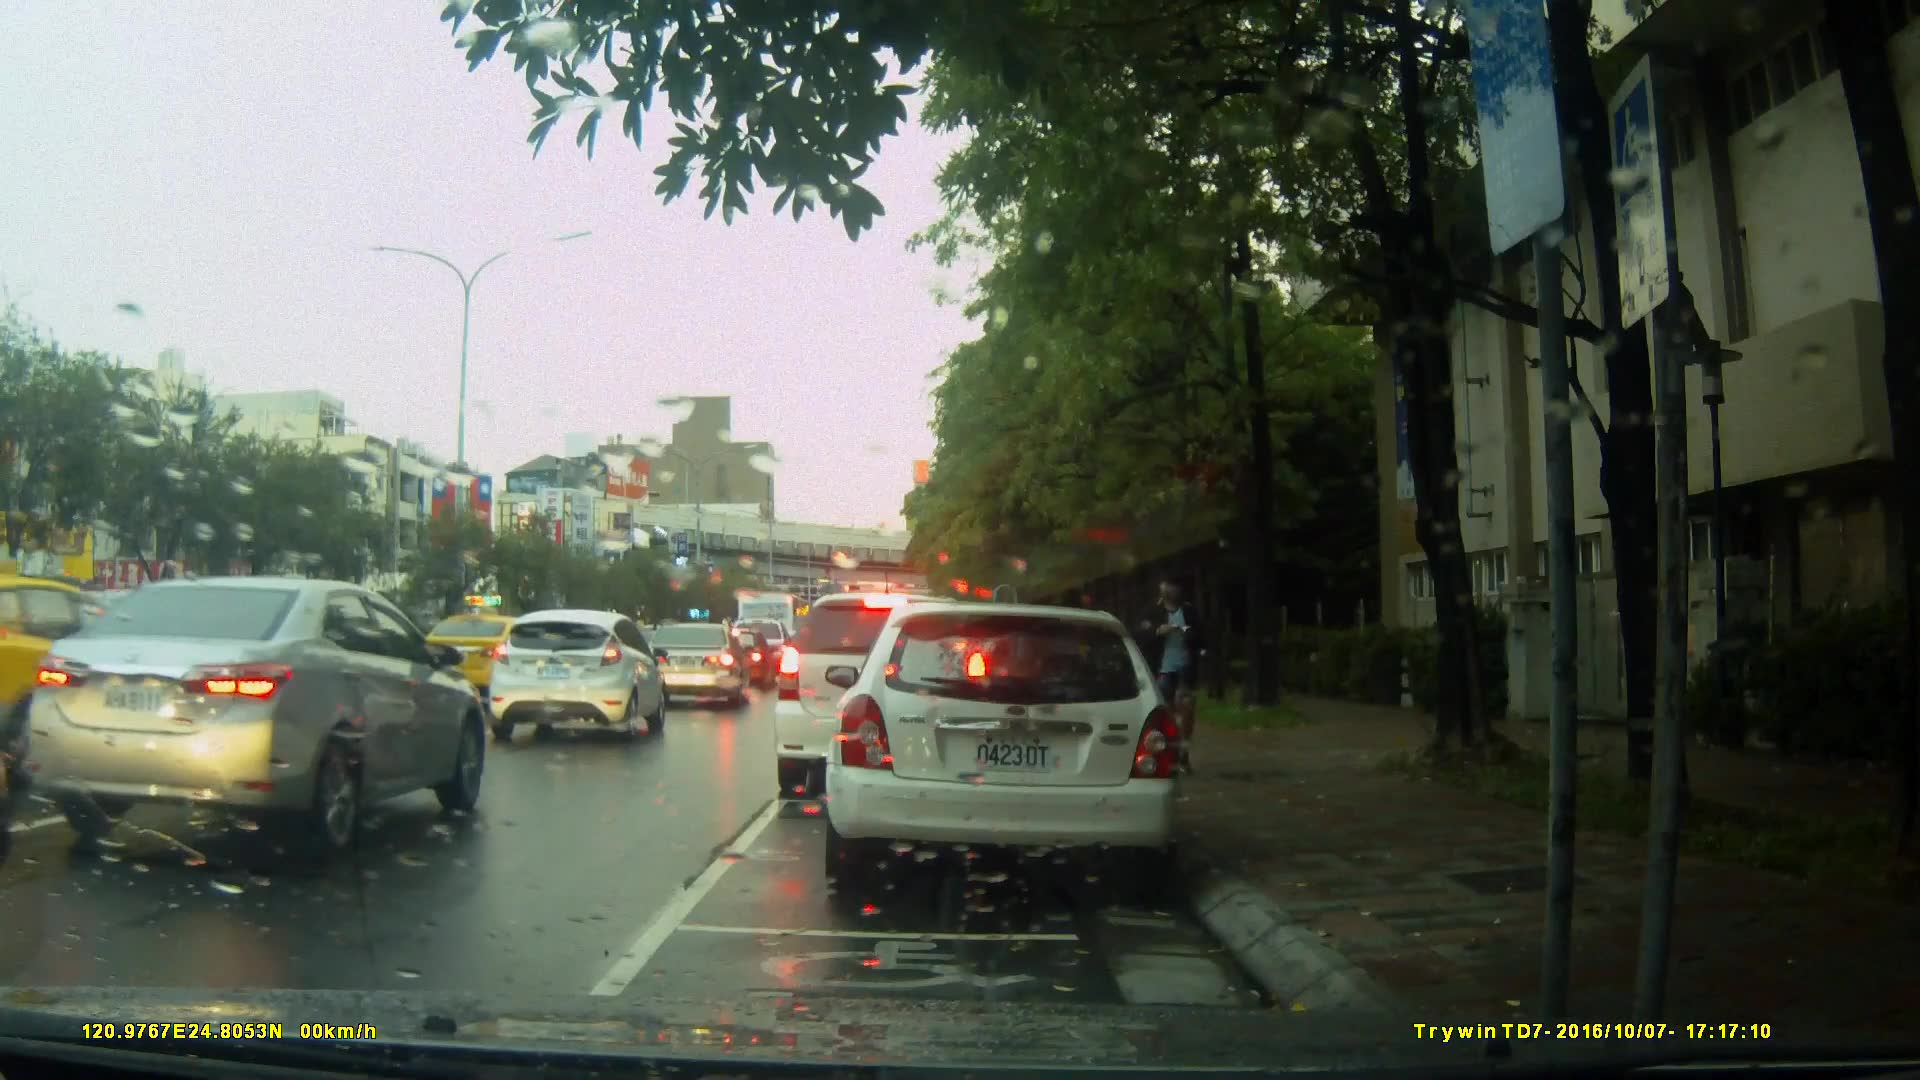pedestrian: (1141, 566, 1213, 751)
vehicle: (23, 573, 488, 857), (835, 594, 1194, 898), (776, 590, 1026, 784), (485, 607, 670, 744), (422, 611, 564, 695), (639, 621, 752, 717), (718, 583, 817, 671), (706, 629, 777, 689)
